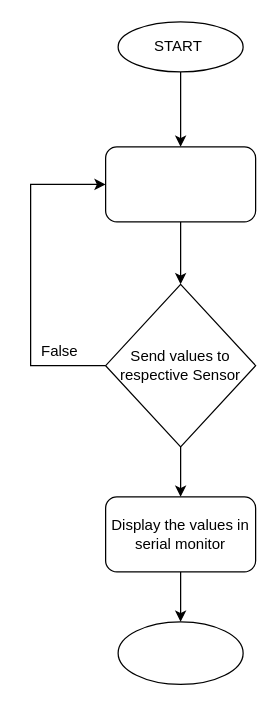
The diagram is 278 pixels wide and 706 high, and some of its shapes have lost their labels. Each missing label, with the box of its shape:
END: (117, 621, 243, 684)
Measure the TDS & Temperature of water: (104, 146, 256, 222)
